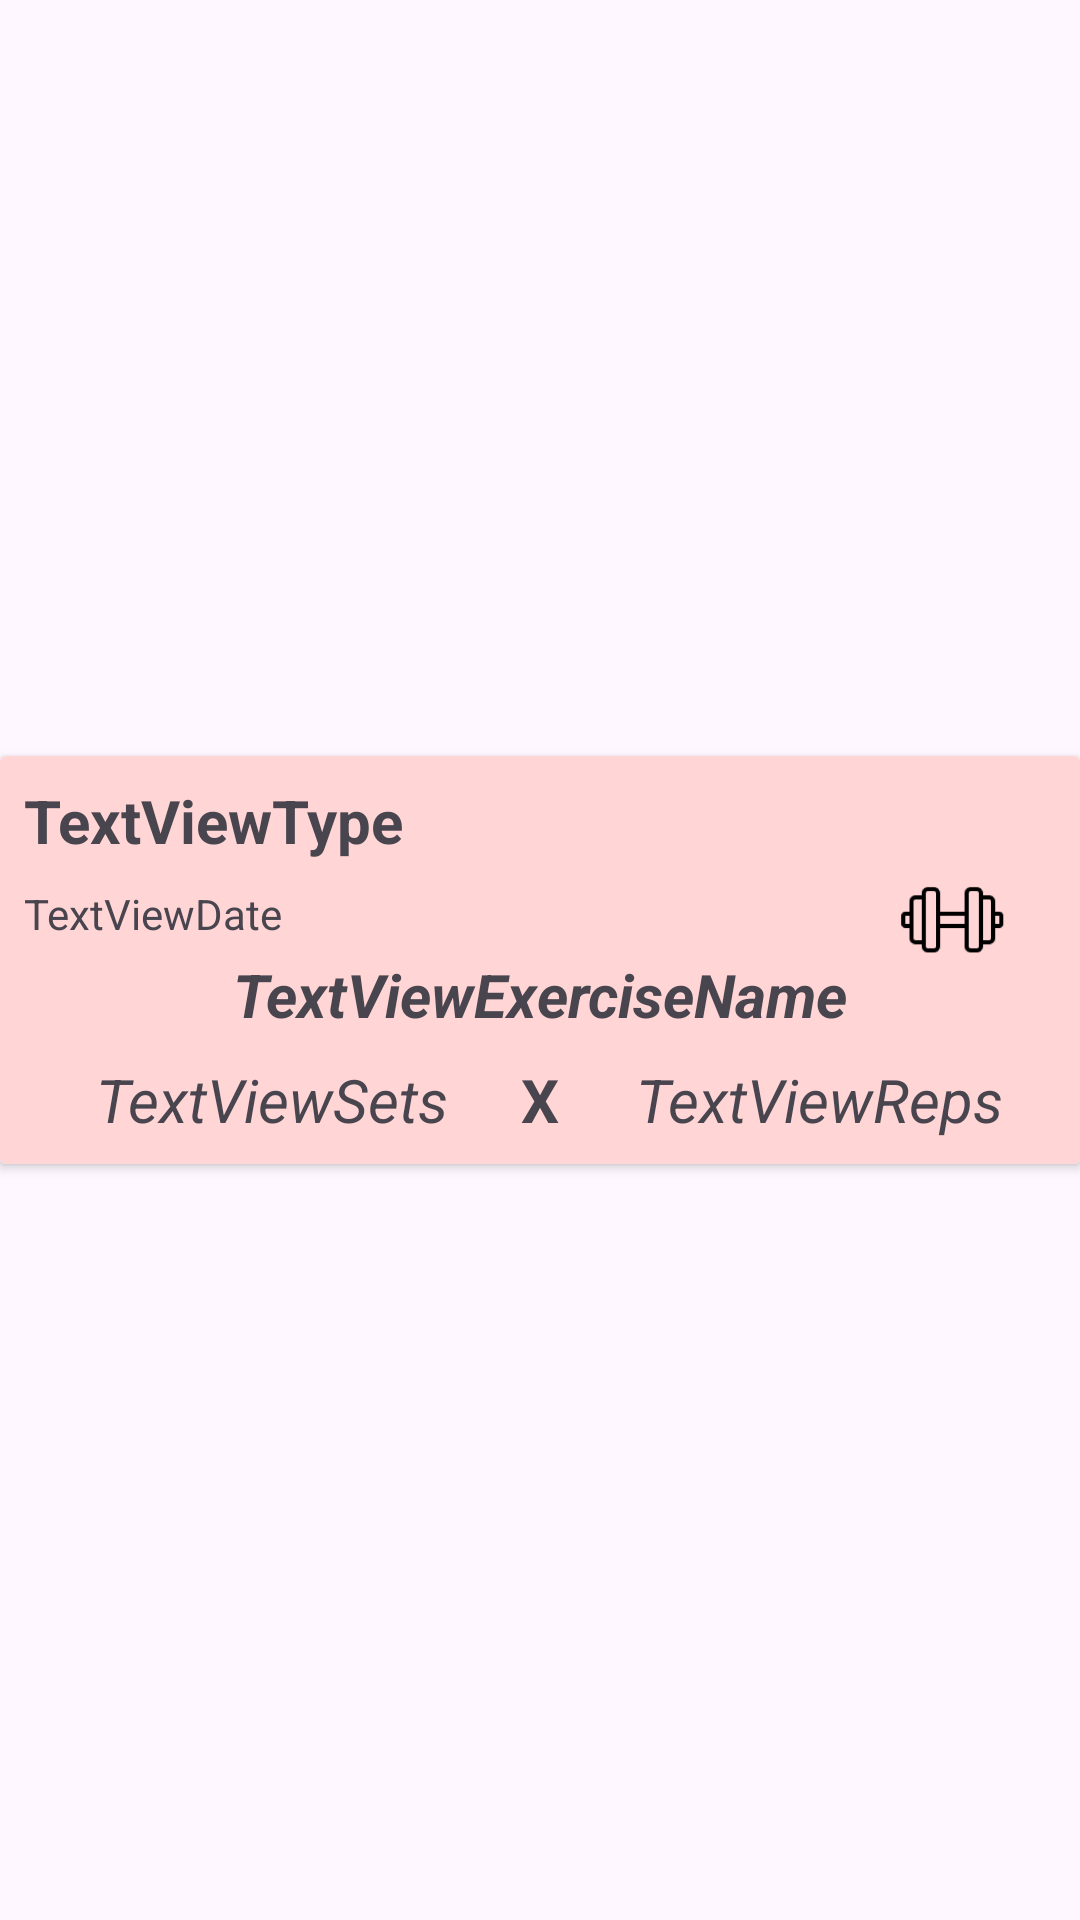

Screen size 1080x1920. Icon name, then its center in pixels as [x,y]:
dumbbell: [952,920]
